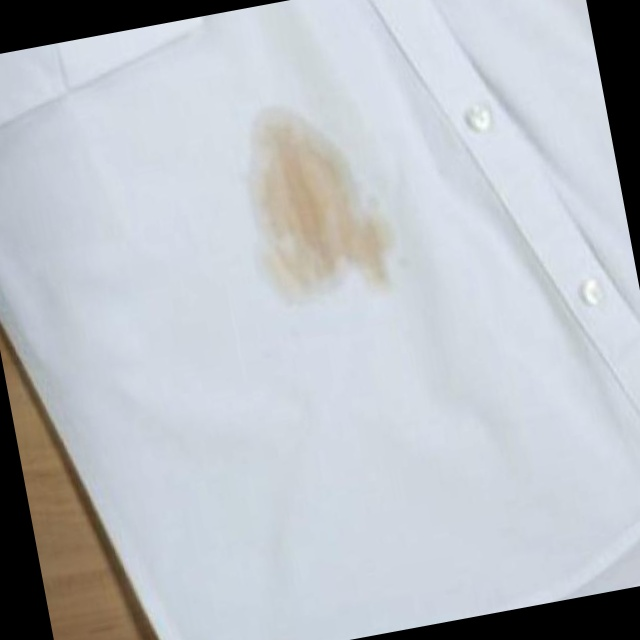coffee: (232, 91, 399, 312)
